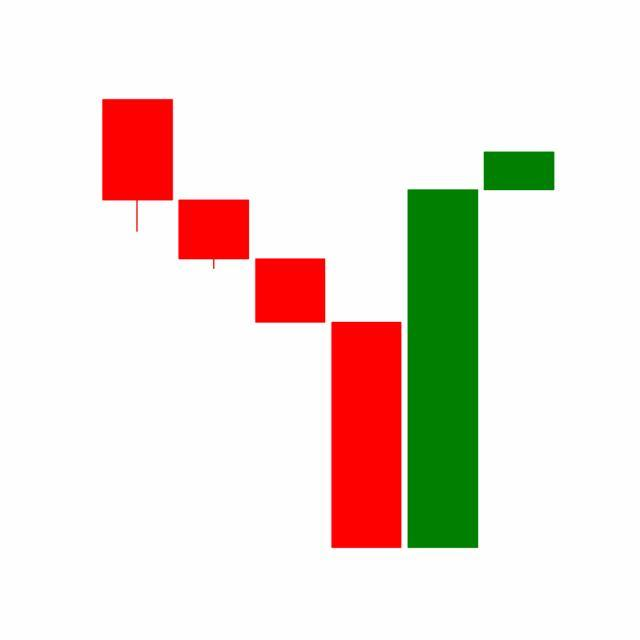Marubozu: (404, 185, 482, 552)
